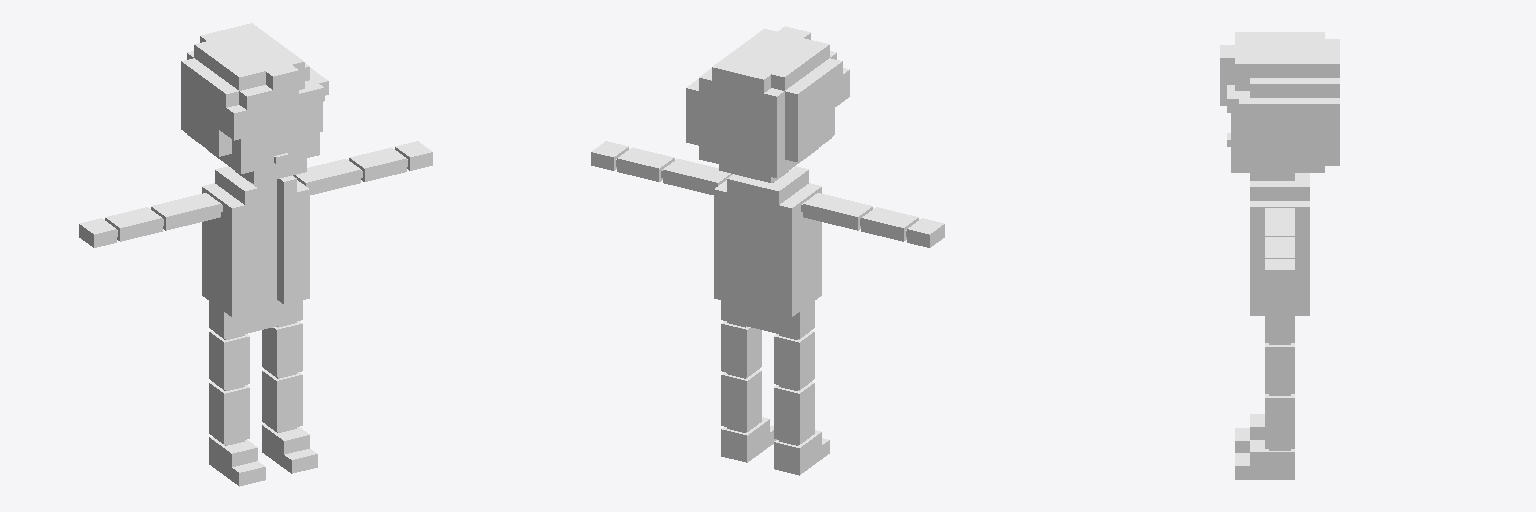
Rendered from gumi-v01.obj.
The picture shows the model from 3 angles: view 1: azimuth 30°, elevation 25°; view 2: azimuth 150°, elevation 25°; view 3: azimuth 270°, elevation 25°; orthographic projection.
Parts seen in each view (by area): view 1: object 1; view 2: object 1; view 3: object 1.
Part boxes in pixels (bbox=[...]): object 1: bbox=[79, 23, 432, 486]; object 1: bbox=[591, 26, 944, 475]; object 1: bbox=[1220, 32, 1339, 479].
Size of the model in its own units: 10.4 by 12 by 3.2.